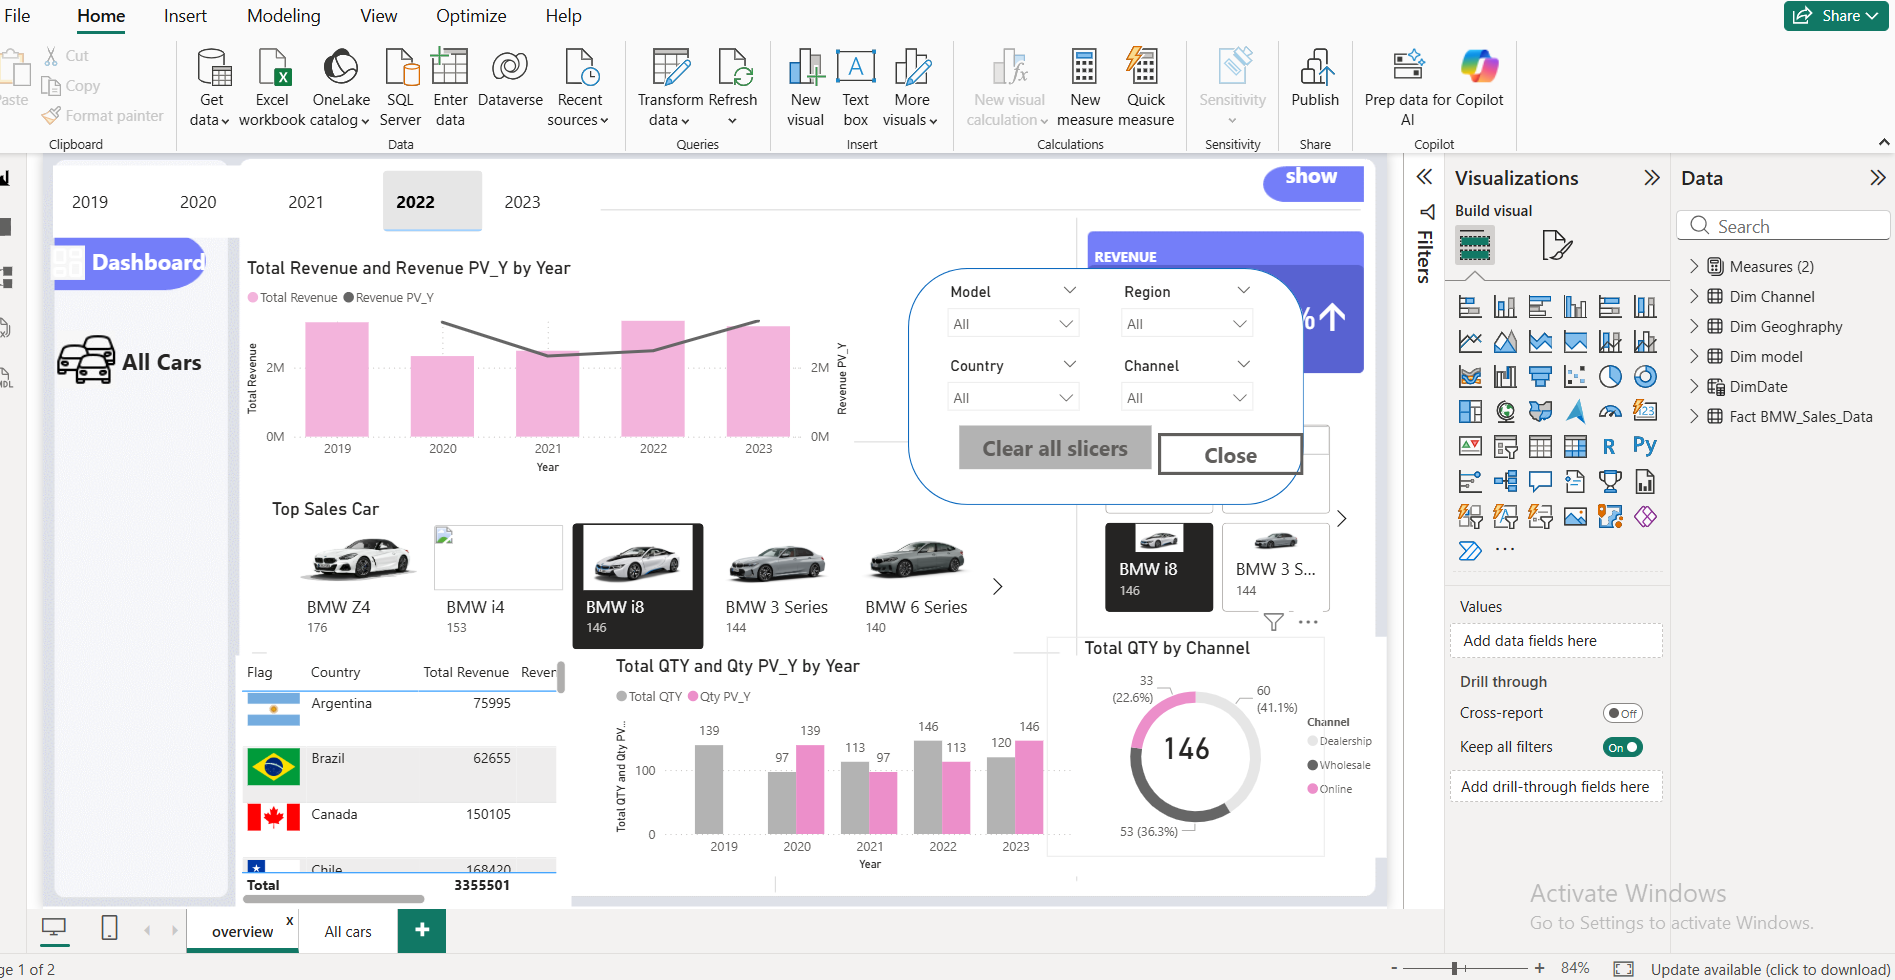

This screenshot's page, from the dashboard's own definition file:
{"tool":"powerbi","page":{"name":"overview","canvas":[1280,720],"ordinal":0},"visuals":[{"type":"advancedSlicerVisual","fields":{"Values":["DimDate.Year"]},"box":[9.6,12.3,521.4,68.6],"z":0},{"type":"card","fields":{"Values":["Measures (2).Total Revenue"]},"box":[987.2,99.5,116.1,56.7],"z":1000},{"type":"shape","box":[824.3,110,377.1,225.7],"z":1000,"group":"g1"},{"type":"slicer","fields":{"Values":["Dim model.Model"]},"box":[851.4,120,145.7,64.3],"z":1500,"group":"g1"},{"type":"actionButton","box":[872.9,260,182.9,41.4],"z":1750,"group":"g1"},{"type":"textbox","box":[991.3,142.4,139.6,35.9],"z":2000},{"type":"slicer","fields":{"Values":["Dim Channel.Channel"]},"box":[1017.2,190,145.7,64.3],"z":2000,"group":"g1"},{"type":"card","fields":{"Values":["Measures (2).Revenue PV_Y"]},"box":[970.6,142.4,149.3,71.9],"z":3000},{"type":"textbox","box":[996.8,84.3,139.6,35.9],"z":4000},{"type":"slicer","fields":{"Values":["Dim Geoghraphy.Region"]},"box":[1017.2,120,145.7,64.3],"z":4000,"group":"g1"},{"type":"card","fields":{"Values":["Measures (2).Revnue Growth %Arrow"]},"box":[1103.3,120.8,149.6,71.4],"z":5000},{"type":"actionButton","box":[1062.9,267.1,138.6,40],"z":5500,"group":"g1"},{"type":"lineClusteredColumnComboChart","fields":{"Category":["DimDate.Year"],"Y":["Measures (2).Total Revenue"],"Y2":["Measures (2).Revenue PV_Y"]},"box":[189.4,98.8,583.2,211.3],"z":6000},{"type":"slicer","fields":{"Values":["Dim Geoghraphy.Country"]},"box":[851.4,190,145.7,64.3],"z":6000,"group":"g1"},{"type":"advancedSlicerVisual","title":"Top Sales Car","fields":{"Values":["Dim model.Model"]},"box":[212.9,328.6,711.4,150],"z":7000},{"type":"advancedSlicerVisual","title":"Top Expensive Cars","fields":{"Values":["Dim model.Model"]},"box":[987.2,235,265.5,208.8],"z":8000},{"type":"clusteredColumnChart","fields":{"Category":["DimDate.Year"],"Y":["Measures (2).Total QTY","Measures (2).Qty PV_Y"]},"box":[540,478.6,447.1,210],"z":9000},{"type":"donutChart","fields":{"Category":["Dim Channel.Channel"],"Y":["Measures (2).Total QTY"]},"box":[987.2,460.4,293.1,210.2],"z":10000},{"type":"card","fields":{"Values":["Measures (2).Total QTY"]},"box":[955.4,460.4,265.5,210.2],"z":11000},{"type":"tableEx","fields":{"Values":["Dim Geoghraphy.Flag","Dim Geoghraphy.Country","Measures (2).Total Revenue","Measures (2).Revenue Growth","Measures (2).Total QTY","Measures (2).Qty Growth"]},"box":[183.9,478.9,319.7,241.5],"z":12000},{"type":"textbox","box":[41.2,83.7,148.2,56.3],"z":13000},{"type":"image","box":[0,168.5,82.3,54.9],"z":13500},{"type":"image","box":[0,87.8,46.7,32.9],"z":14000},{"type":"actionButton","box":[1158.6,0,100,40],"z":14500},{"type":"textbox","box":[70,178.4,89.2,52.1],"z":15000},{"type":"actionButton","box":[12.3,183.9,141.3,39.8],"z":16000},{"type":"group","id":"g1","title":"Group 1","box":[824.3,110,377.1,225.7],"z":18000}]}

Visuals, with their boxes on the page's 1280x720 design canvas (x1, y1, x2, y2). These are canvas units, not pixel positions in the 1895x980 screenshot, which may show the page scaled, cropped or inside an application window:
advancedSlicerVisual - DimDate.Year: (x1=10, y1=12, x2=531, y2=81)
card - Measures (2).Total Revenue: (x1=987, y1=100, x2=1103, y2=156)
shape: (x1=824, y1=110, x2=1201, y2=336)
slicer - Dim model.Model: (x1=851, y1=120, x2=997, y2=184)
actionButton: (x1=873, y1=260, x2=1056, y2=301)
textbox: (x1=991, y1=142, x2=1131, y2=178)
slicer - Dim Channel.Channel: (x1=1017, y1=190, x2=1163, y2=254)
card - Measures (2).Revenue PV_Y: (x1=971, y1=142, x2=1120, y2=214)
textbox: (x1=997, y1=84, x2=1136, y2=120)
slicer - Dim Geoghraphy.Region: (x1=1017, y1=120, x2=1163, y2=184)
card - Measures (2).Revnue Growth %Arrow: (x1=1103, y1=121, x2=1253, y2=192)
actionButton: (x1=1063, y1=267, x2=1202, y2=307)
lineClusteredColumnComboChart - DimDate.Year x Measures (2).Total Revenue: (x1=189, y1=99, x2=773, y2=310)
slicer - Dim Geoghraphy.Country: (x1=851, y1=190, x2=997, y2=254)
"Top Sales Car" advancedSlicerVisual: (x1=213, y1=329, x2=924, y2=479)
"Top Expensive Cars" advancedSlicerVisual: (x1=987, y1=235, x2=1253, y2=444)
clusteredColumnChart - DimDate.Year x Measures (2).Total QTY: (x1=540, y1=479, x2=987, y2=689)
donutChart - Dim Channel.Channel x Measures (2).Total QTY: (x1=987, y1=460, x2=1280, y2=671)
card - Measures (2).Total QTY: (x1=955, y1=460, x2=1221, y2=671)
tableEx - Dim Geoghraphy.Flag x Dim Geoghraphy.Country: (x1=184, y1=479, x2=504, y2=720)
textbox: (x1=41, y1=84, x2=189, y2=140)
image: (x1=0, y1=168, x2=82, y2=223)
image: (x1=0, y1=88, x2=47, y2=121)
actionButton: (x1=1159, y1=0, x2=1259, y2=40)
textbox: (x1=70, y1=178, x2=159, y2=230)
actionButton: (x1=12, y1=184, x2=154, y2=224)
"Group 1" group: (x1=824, y1=110, x2=1201, y2=336)
